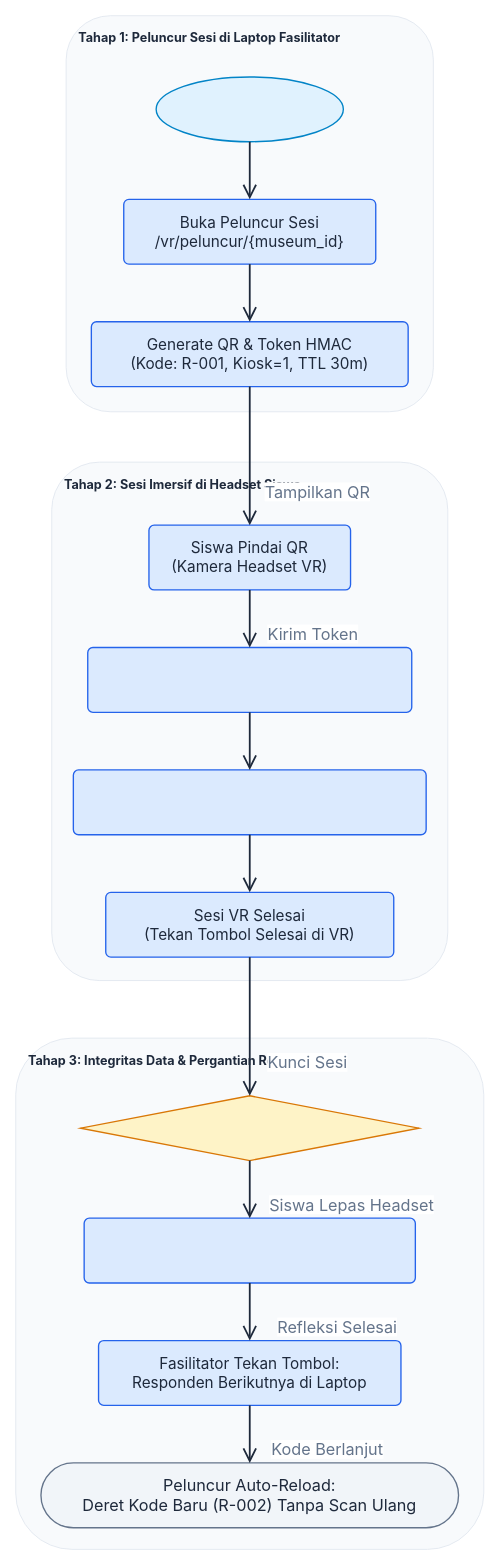
Image size: 500x1565. Some labels were removed from this diagram. The shapes that lost their labels are listed below. From the top down, each one's centre as x and y in pixels, then its label:
point 249,109: Fasilitator Login ke Dashboard Guru
point 249,679: Validasi Token Stateless Masuk Scene Tanpa Ketik Password
point 249,802: Sesi VR Aktif (Mode Kiosk) Navigasi Web Otomatis Disembunyikan
point 249,1128: Panel Penutup Terkunci di VR (Cegah Data 2 Responden Tercampur)
point 249,1250: Siswa Lepas Headset VR Isi Modul Refleksi di Layar Biasa
